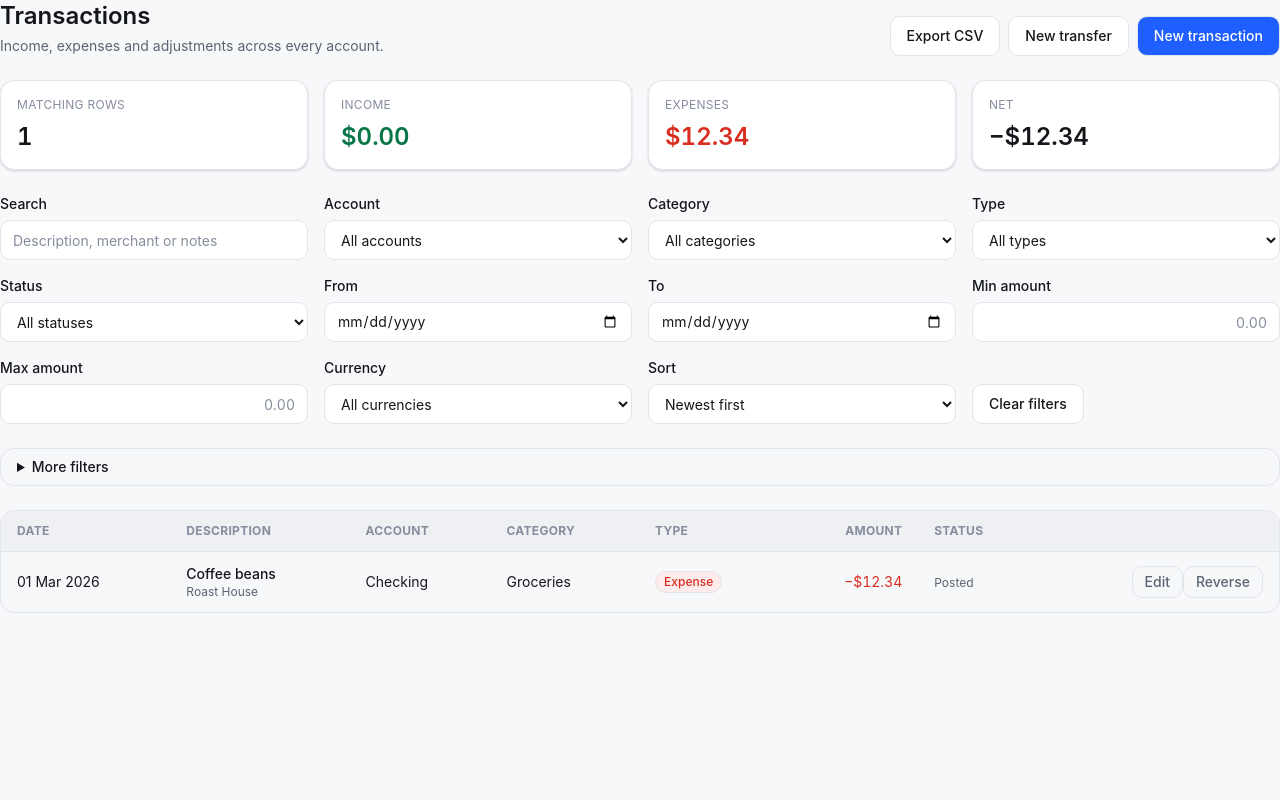
Test case: TransactionsPage › opens the reverse dialog from the row action
The image size is (1280, 800).
Click the button with aria-label "Reverse Coffee beans". click: (1223, 582)
box: [1183, 566, 1263, 598]
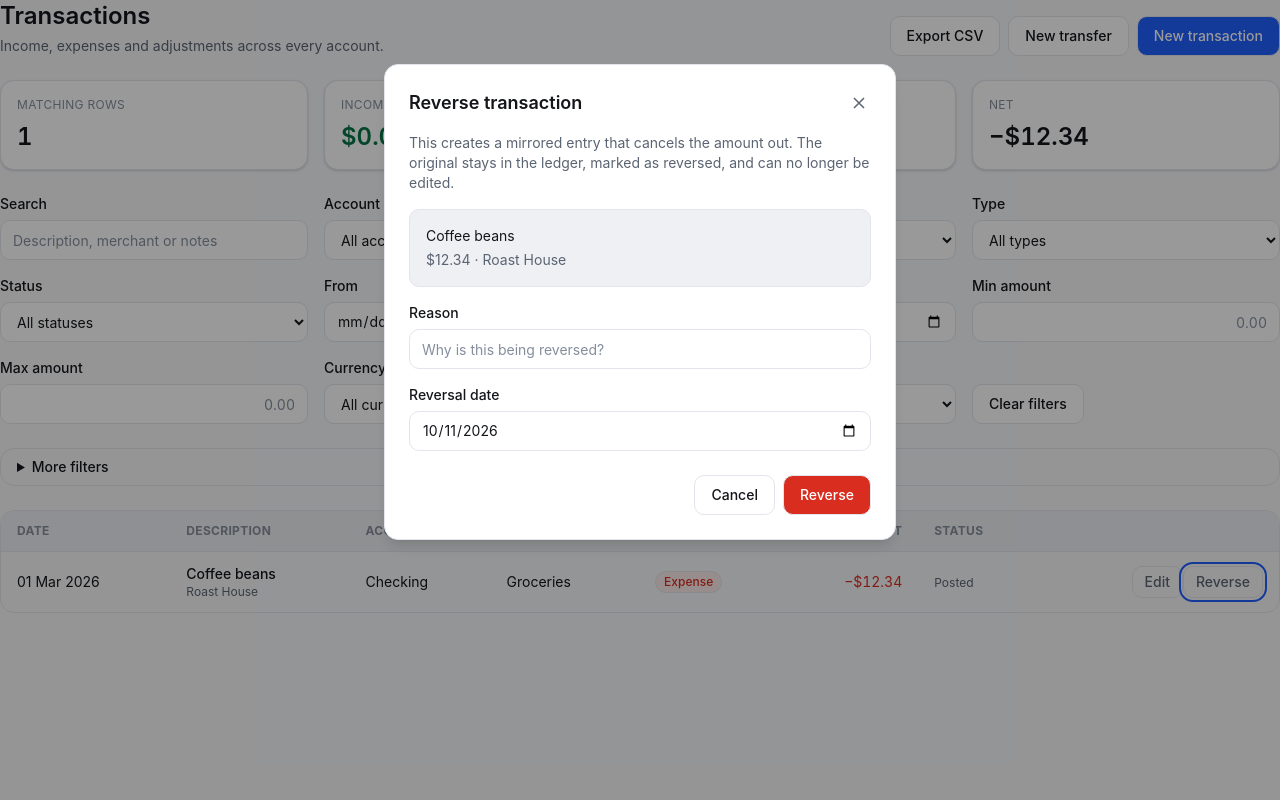
Now the field labelled "Reason" is shown, box [409, 329, 871, 369]
Now the date field labelled "Reversal date" is shown, box [409, 411, 871, 451]
Now the button "Reverse" is shown, box [783, 475, 871, 515]
